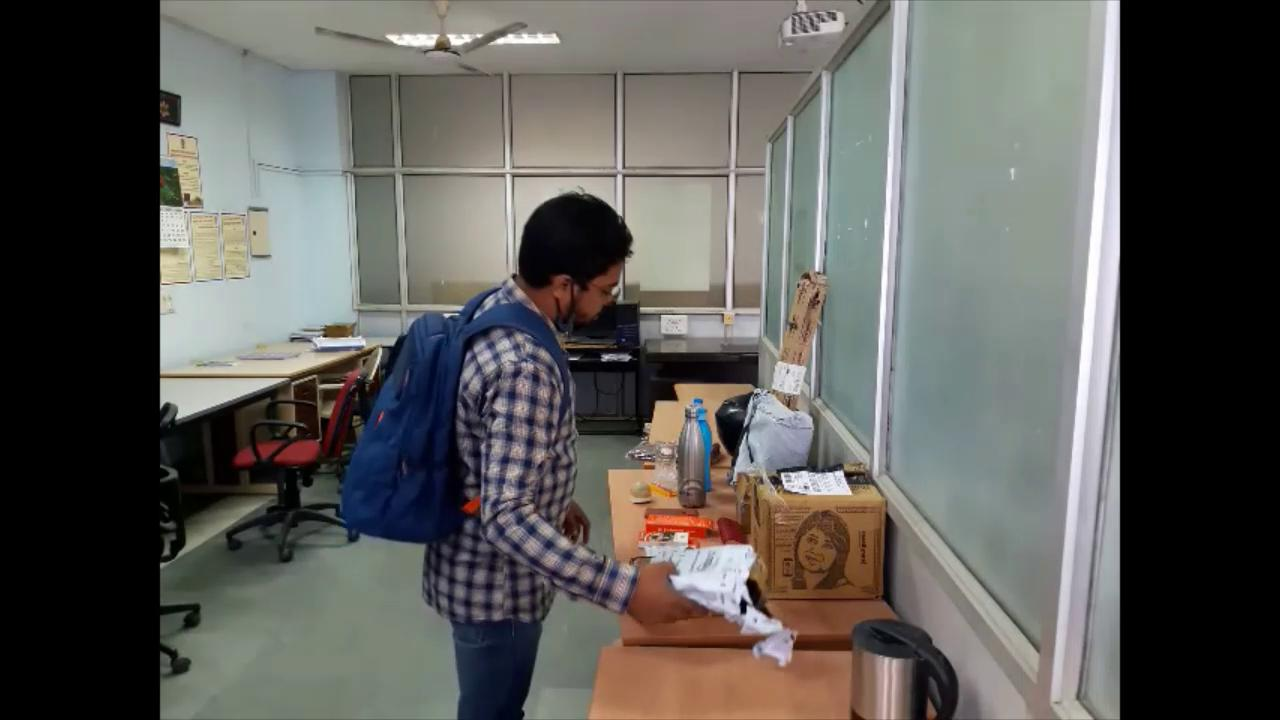Normal: (340, 171, 770, 717)
